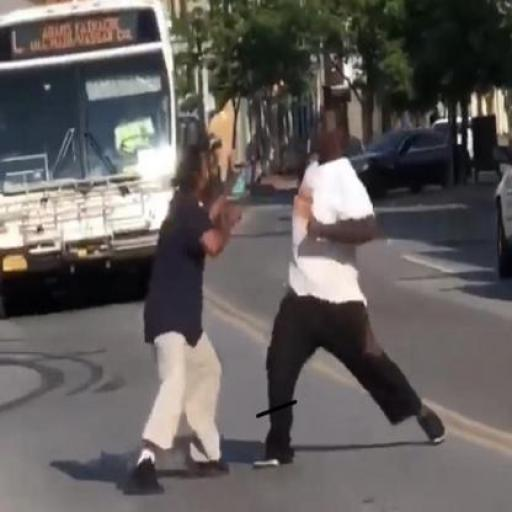Fighting: (131, 106, 447, 490)
